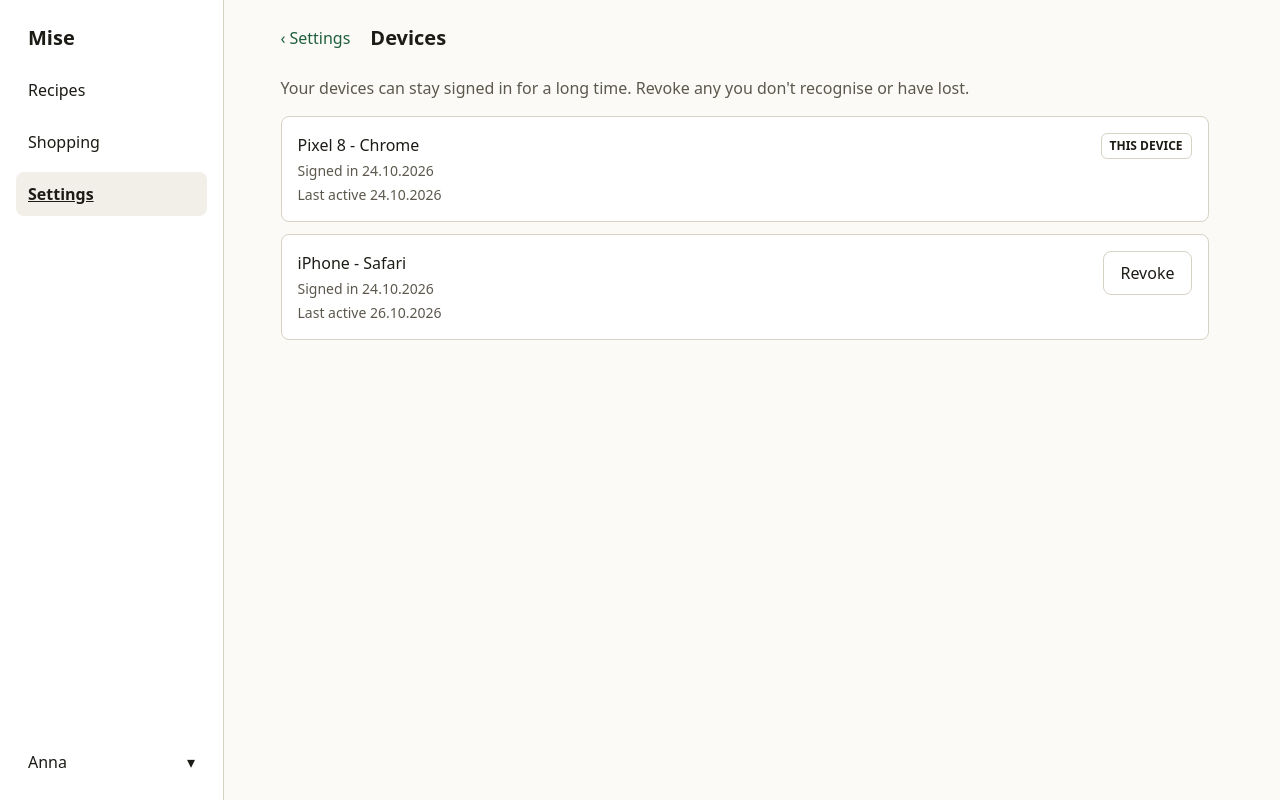
Test: devices screen (FR-30, AC-11) › shows an error in the dialog when revoke fails and keeps the row
Click the button with test id "revoke-device". click: (1148, 273)
box: x1=1104 y1=251 x2=1192 y2=295
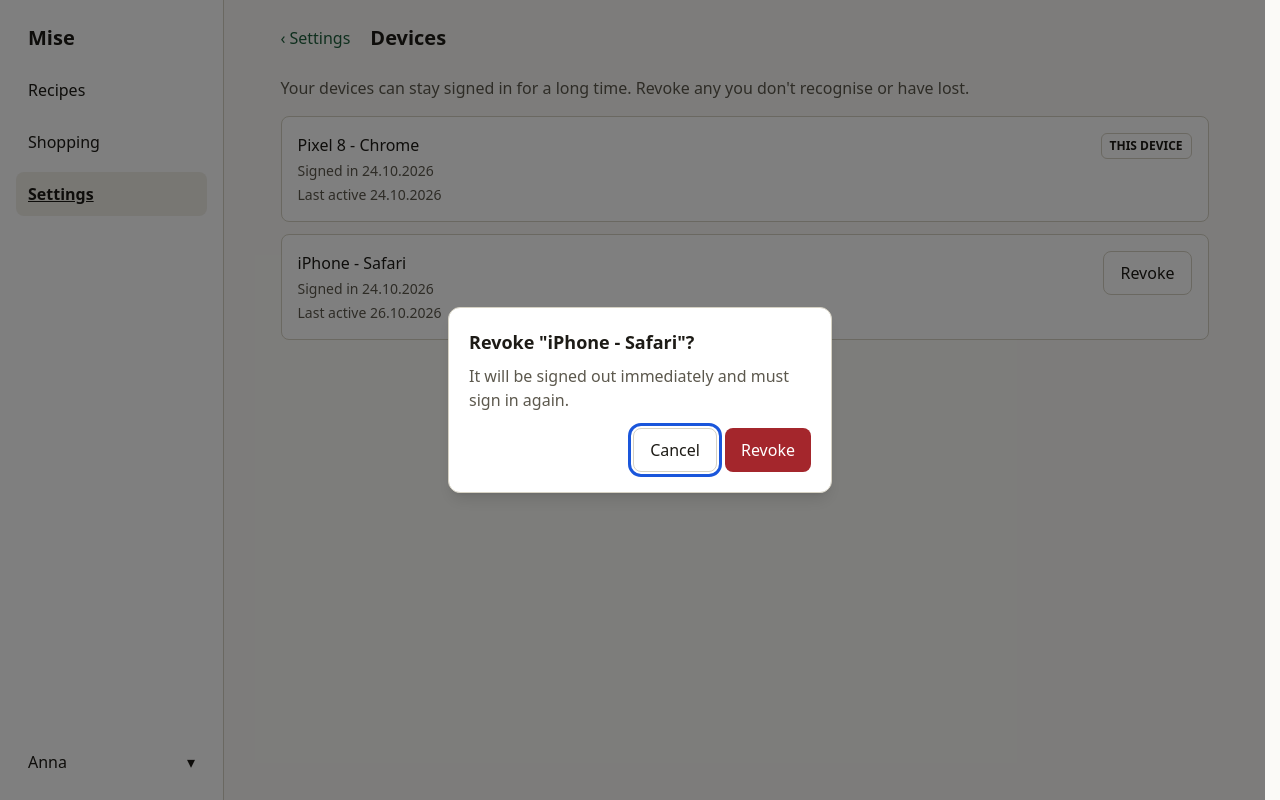
Click the button "Revoke". click: (768, 450)
box: x1=725 y1=428 x2=811 y2=472
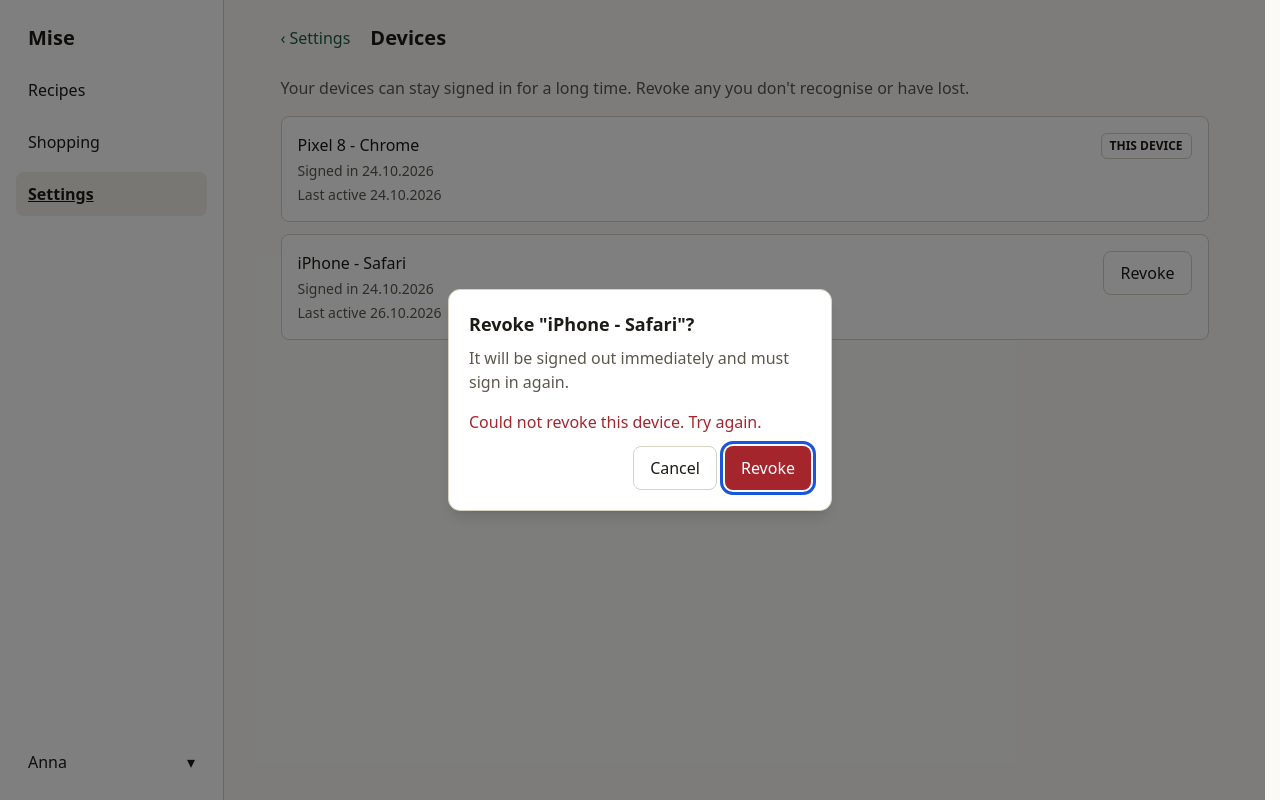
Expected: the number of list items with test id "device-row" is 2, x1=280 y1=116 x2=1208 y2=222; x1=280 y1=234 x2=1208 y2=340
Expected: the message reads "Could not revoke this device. Try again.", x1=469 y1=411 x2=762 y2=433
